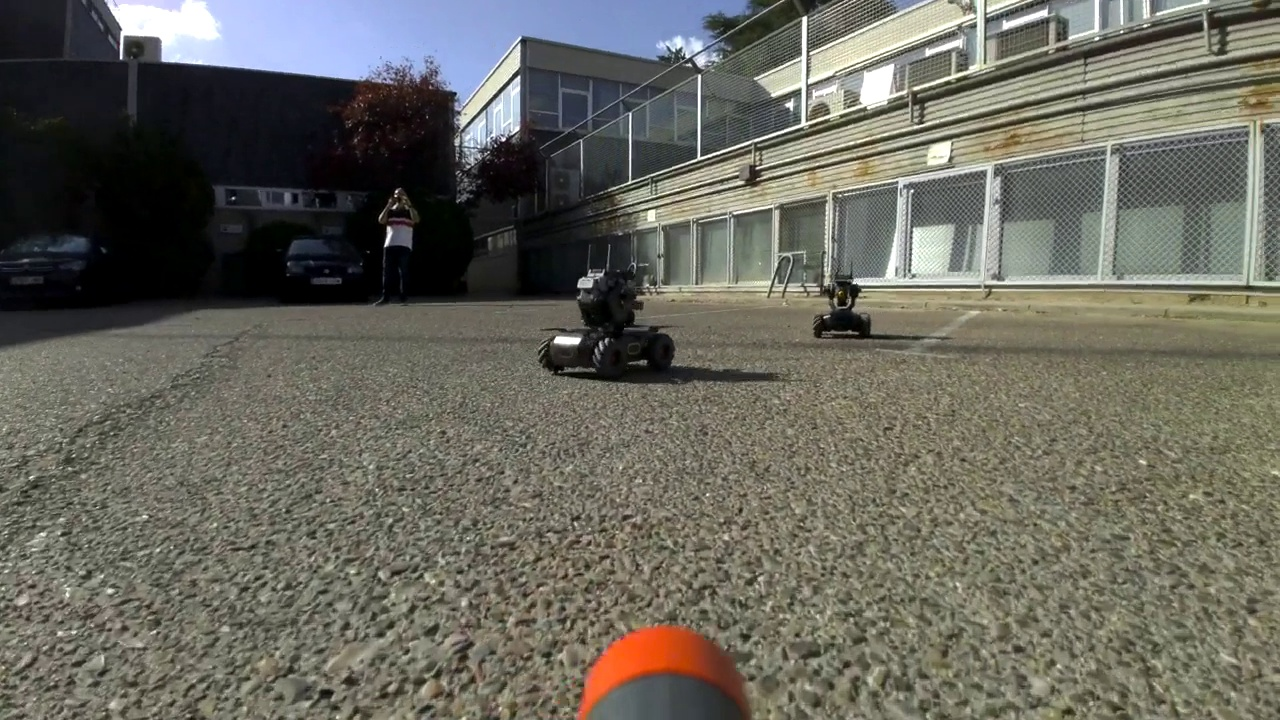robot: (537, 244, 677, 381), (814, 258, 870, 340)
